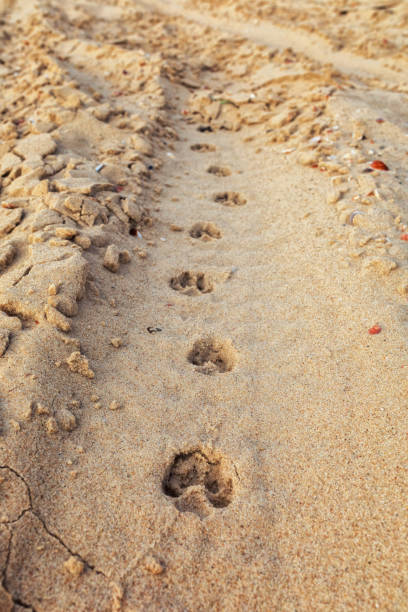animal_footprint: (162, 449, 235, 517), (188, 336, 237, 373), (170, 271, 213, 295), (190, 222, 221, 240), (214, 191, 246, 206), (207, 165, 230, 176), (190, 143, 215, 151)
